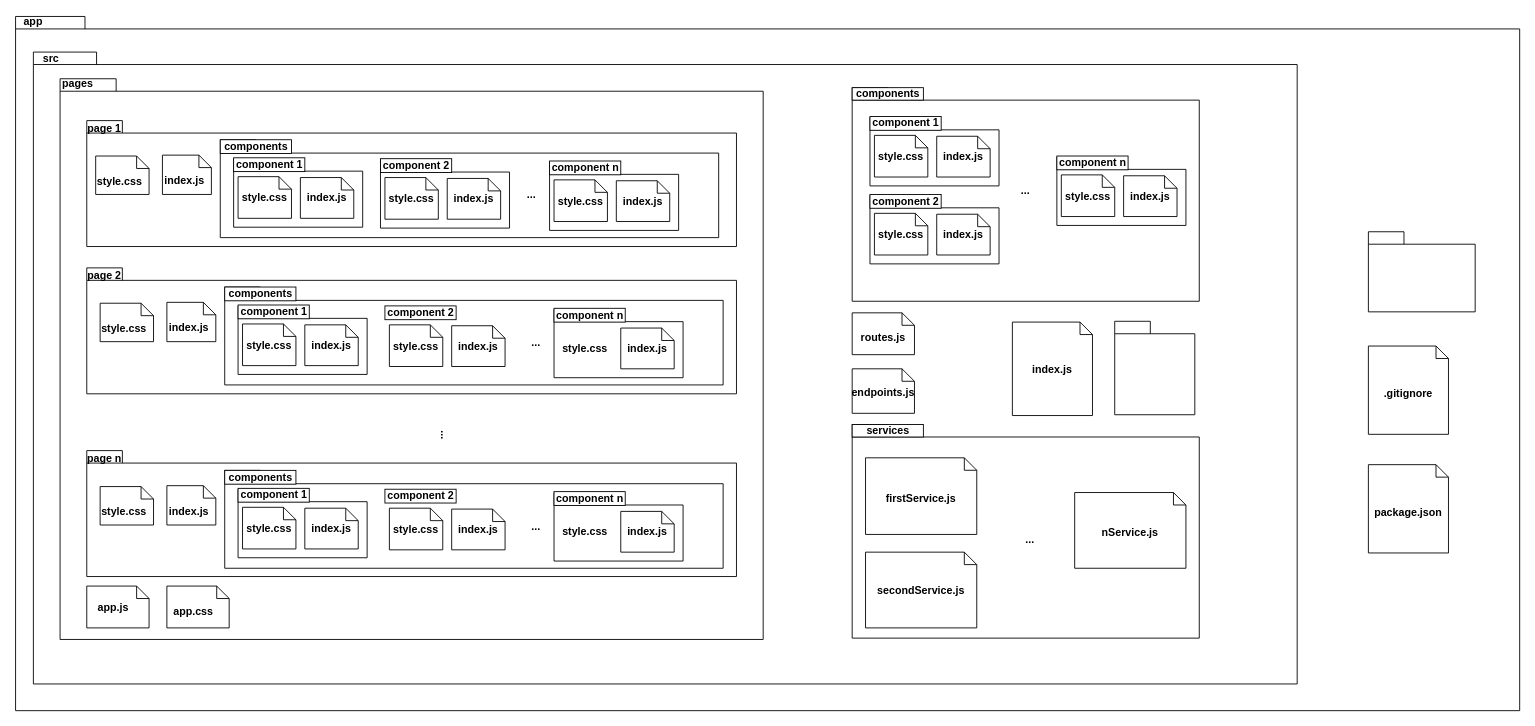
Some shapes in this 1535 by 726 pixel diagram are drawn without their labels. Each missing label, with the centre of its shape:
"assets" belongs at point 1154,367.
"node_modules" belongs at point 1421,271.
